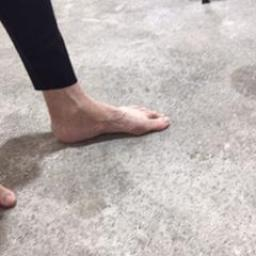Medial View -Left Foot-: (37, 82, 177, 149)
